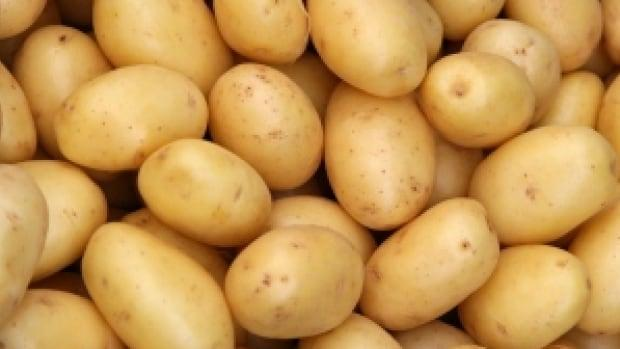peas: (1, 0, 618, 348)
